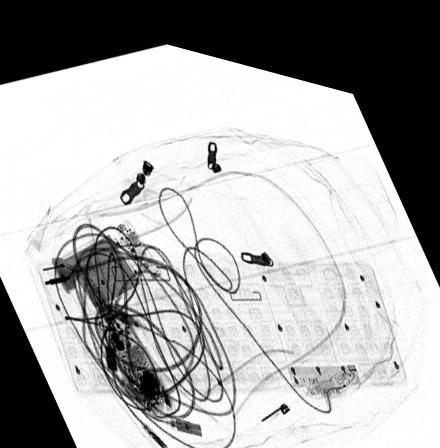Powerbank: (58, 211, 160, 310)
